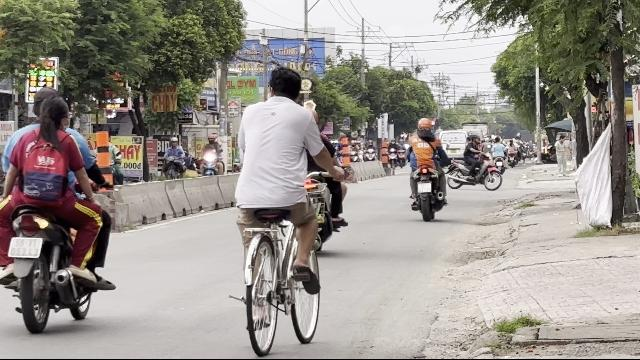licenseplate: (9, 236, 43, 258)
motorcyclist: (0, 85, 114, 333)
nohelmet: (34, 99, 70, 131), (32, 88, 64, 114)
